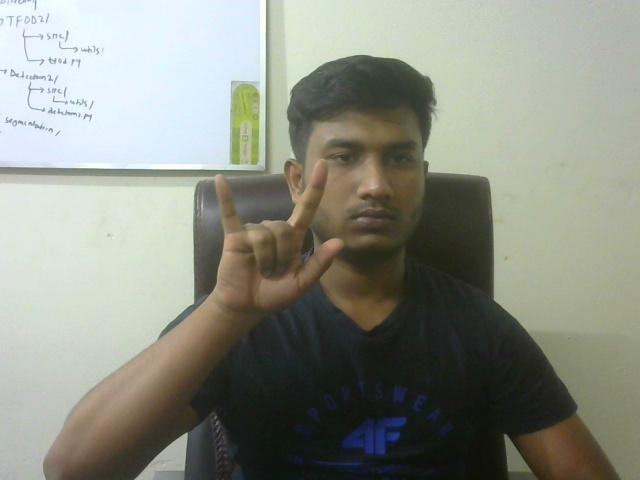IloveYou: (189, 150, 351, 336)
